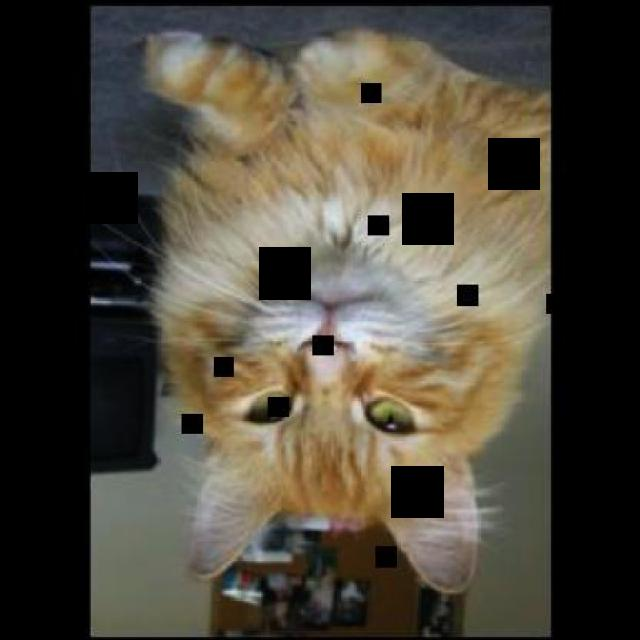unauthorized: (111, 24, 551, 596)
